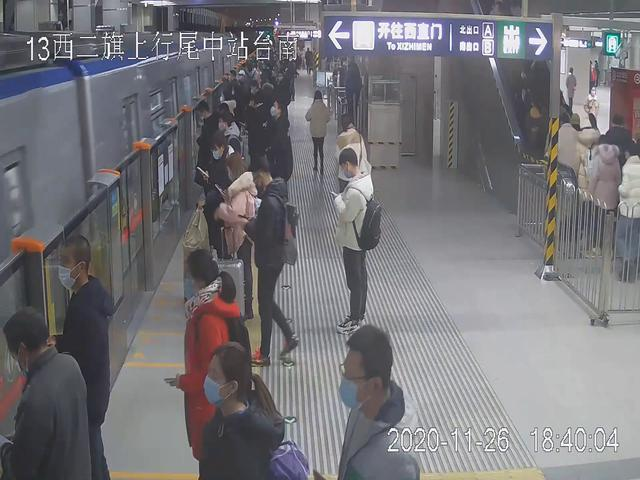person: (170, 248, 244, 480), (198, 337, 315, 480), (54, 230, 115, 480), (1, 307, 88, 480), (335, 325, 431, 480), (244, 157, 304, 363), (326, 147, 375, 337), (220, 150, 261, 321), (337, 110, 366, 233), (303, 89, 329, 173)
